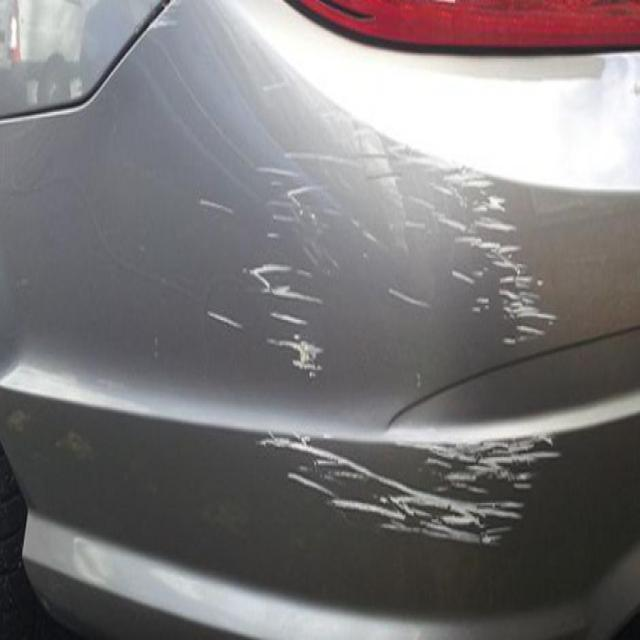scratch: (208, 82, 576, 574)
